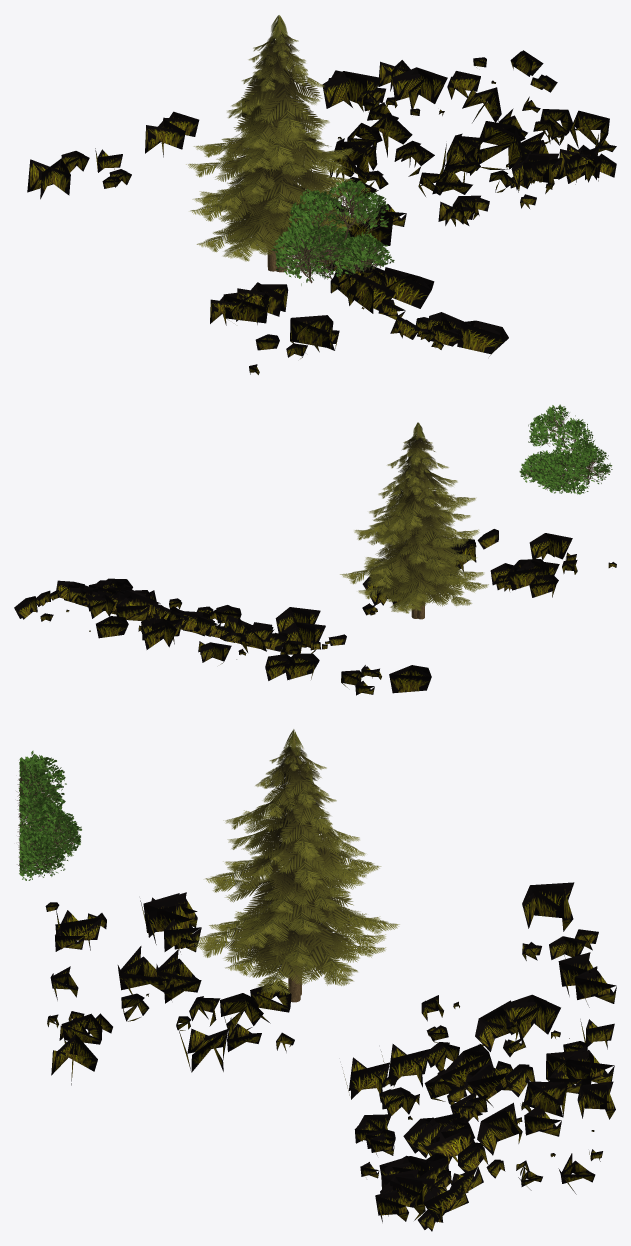
The picture shows the model from 3 angles, top to bottom: view 1: azimuth 30°, elevation 25°; view 2: azimuth 150°, elevation 25°; view 3: azimuth 270°, elevation 25°; orthographic projection. The views are drawn at different scales.
Parts seen in each view (by area): view 1: Low Poly Stylized 2D Grass.085; view 2: Low Poly Stylized 2D Grass.085; view 3: Low Poly Stylized 2D Grass.085.
Boxes of the visible parts, x1,y1,x2,y2 form: Low Poly Stylized 2D Grass.085: (27,15,616,374); Low Poly Stylized 2D Grass.085: (14,404,616,695); Low Poly Stylized 2D Grass.085: (16,729,616,1231).
Bounding box in the file's own units: 24.53 × 12.51 × 22.22.
5 materials, 4 textured.
